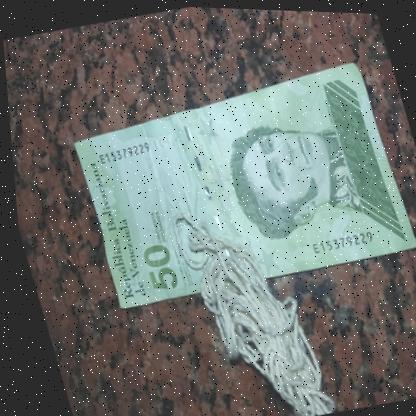fifty-front-vef: (57, 47, 416, 316)
